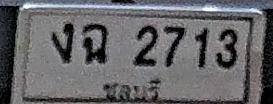1: (195, 27, 208, 68)
2: (134, 25, 158, 66)
3: (216, 28, 238, 68)
7: (164, 26, 185, 66)
A07: (51, 22, 74, 62)
A09: (82, 22, 108, 63)
CBI: (98, 76, 163, 103)
